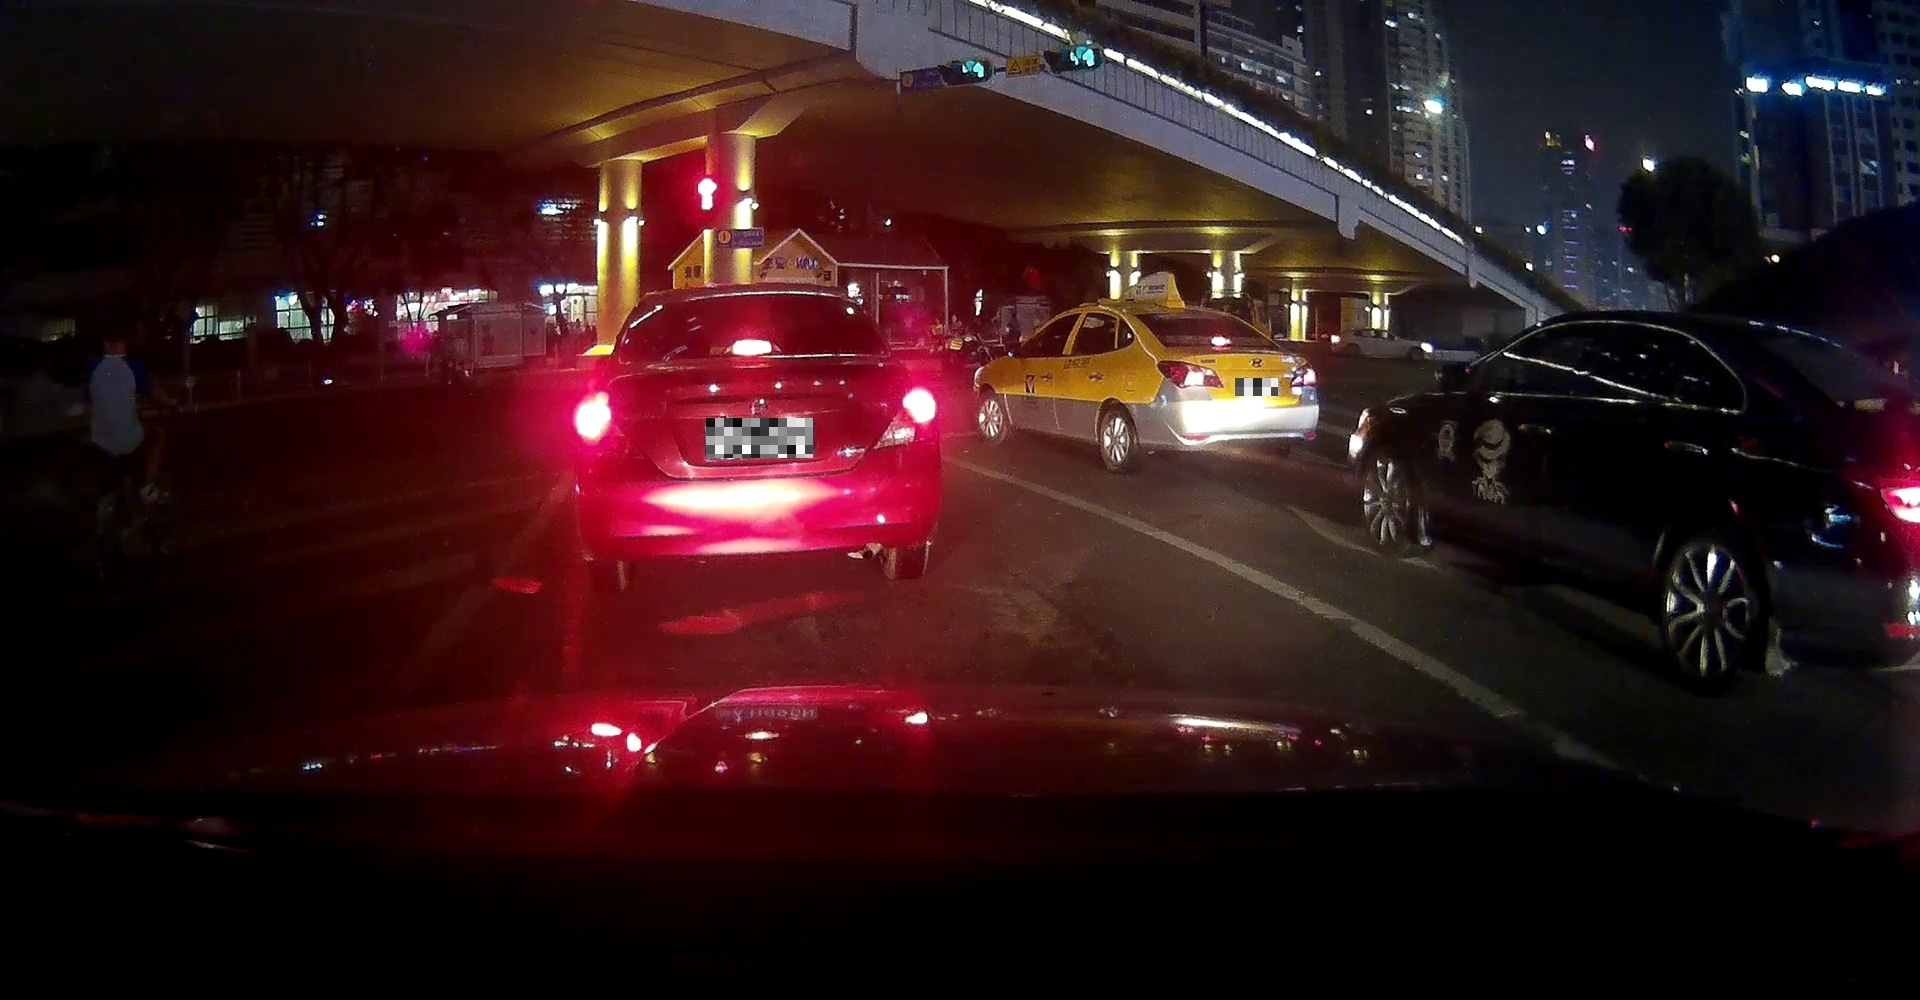L_light: (579, 400, 643, 457), (1156, 360, 1225, 388)
R_light: (874, 385, 935, 449), (1288, 363, 1317, 388)
T_light: (731, 338, 775, 357), (1211, 338, 1232, 346)
night-brake: (577, 282, 938, 590), (1131, 306, 1319, 475)
plate_1: (706, 418, 813, 458)
plate_2: (1236, 378, 1277, 396)
